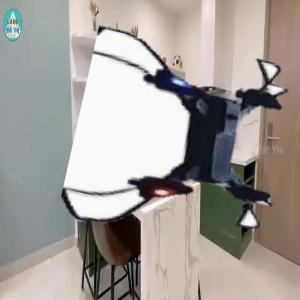drone: (78, 31, 292, 245)
